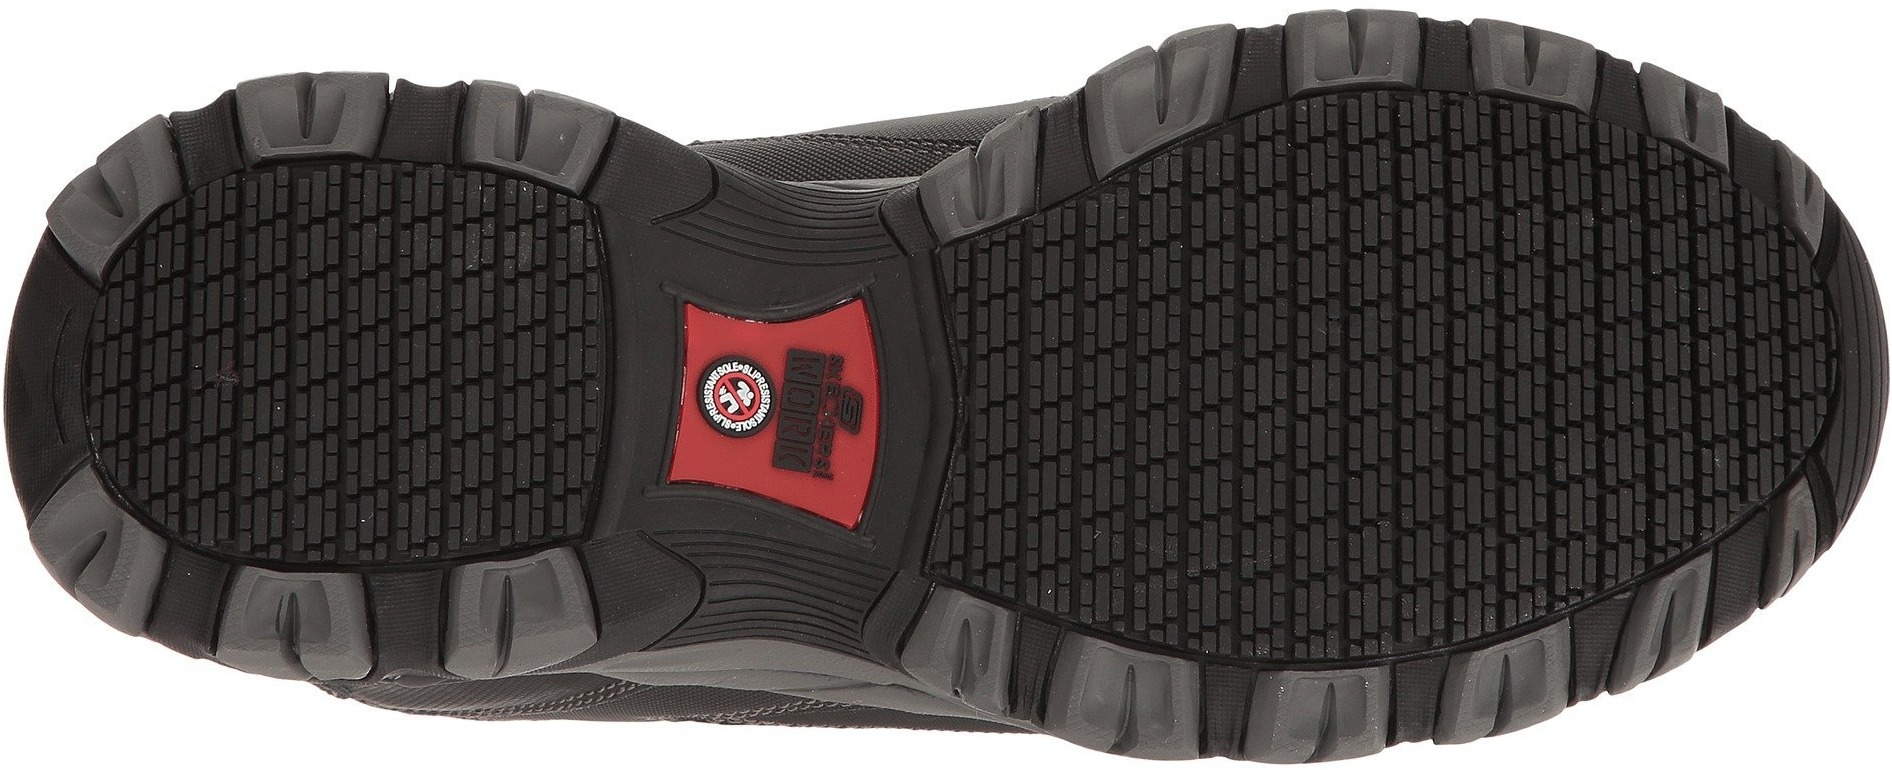circle: (687, 348, 778, 441)
quad: (1205, 369, 1455, 612), (1413, 121, 1647, 358), (964, 241, 1199, 460), (1205, 127, 1403, 327), (99, 276, 298, 465), (1456, 366, 1657, 553), (309, 177, 497, 367), (313, 374, 502, 558), (1657, 246, 1822, 436), (1043, 472, 1202, 616)
text: (777, 340, 869, 436), (687, 348, 778, 441)
